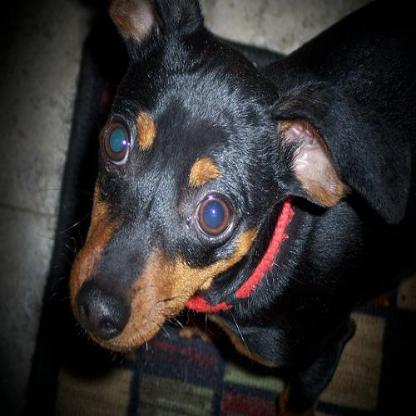Doberman: (69, 1, 414, 414)
